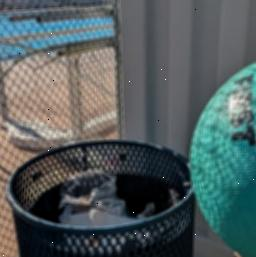algae: (189, 45, 256, 257)
